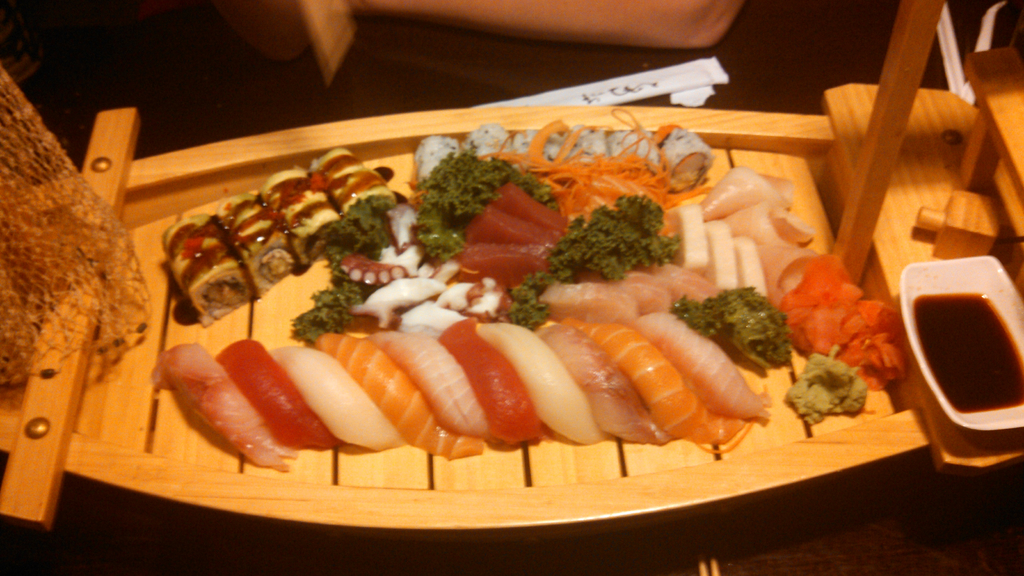sushi: (158, 318, 771, 456), (428, 124, 712, 187), (159, 344, 298, 467), (259, 164, 349, 269), (164, 214, 245, 316), (218, 192, 298, 294), (307, 150, 394, 223)
